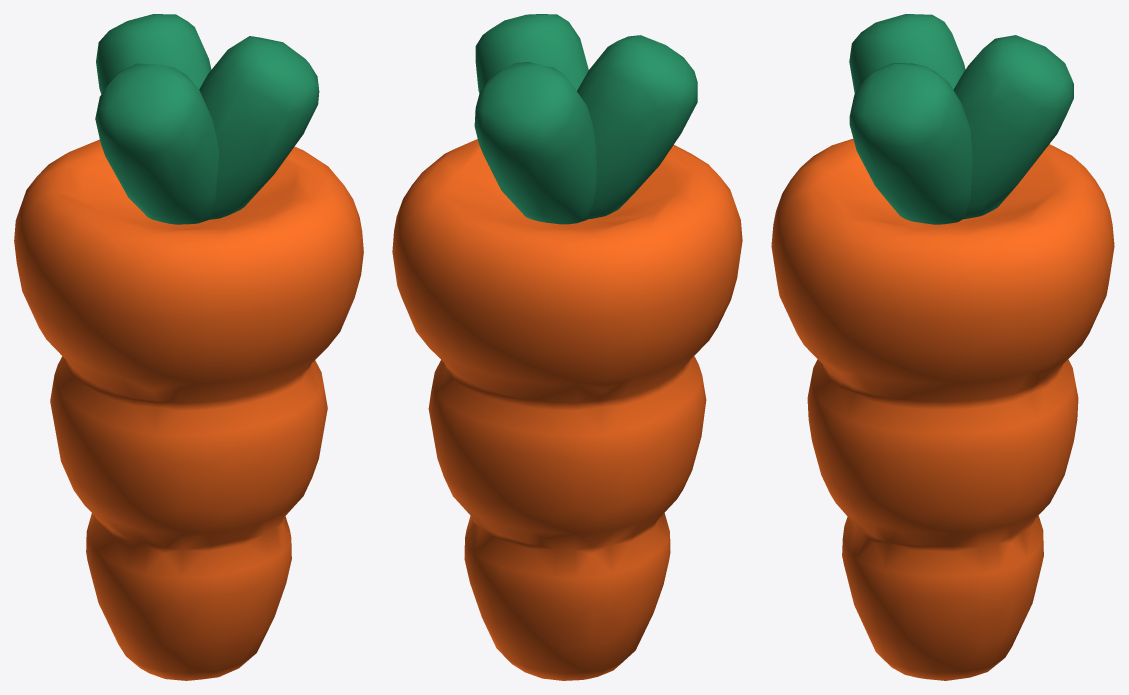
The model's file is carrot1.gltf.
3 views of the same model, side by side, from view 1: azimuth 30°, elevation 25°; view 2: azimuth 150°, elevation 25°; view 3: azimuth 270°, elevation 25° (orthographic).
Parts seen in each view (by area): view 1: Cube.001, Cube.002; view 2: Cube.001, Cube.002; view 3: Cube.001, Cube.002.
Boxes of the visible parts, left/top/right/bottom form: Cube.001: left=14, top=139, right=363, bottom=680; Cube.002: left=95, top=14, right=319, bottom=224; Cube.001: left=392, top=139, right=742, bottom=680; Cube.002: left=474, top=14, right=697, bottom=224; Cube.001: left=771, top=139, right=1114, bottom=680; Cube.002: left=849, top=14, right=1073, bottom=224.
Bounding box in the file's own units: 1.71 × 3.43 × 1.71.
2 materials, 2 textured.
